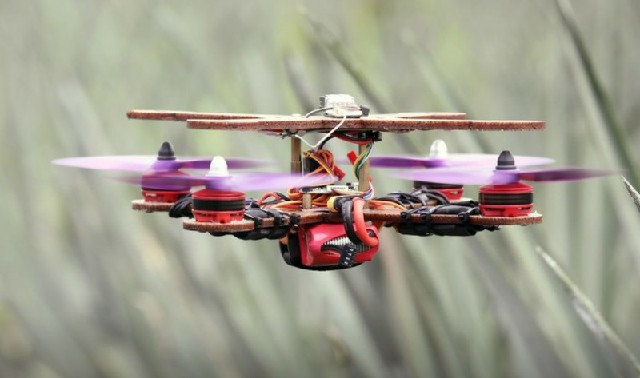maybay_khongnguoilai: (64, 102, 595, 271)
